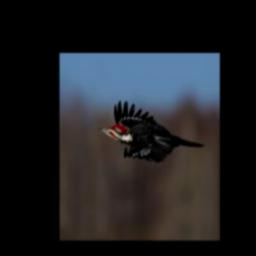Woodpecker: (97, 100, 204, 163)
